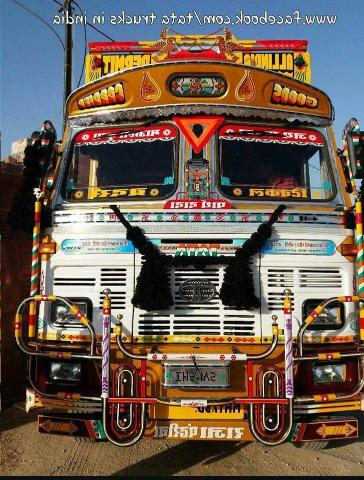truck: (9, 22, 364, 454)
